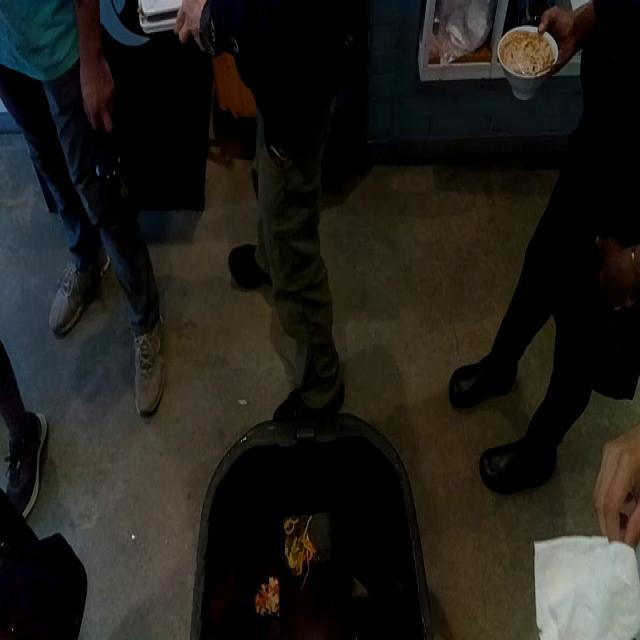Anorganik: (500, 21, 558, 89)
Organik: (505, 32, 556, 72)
